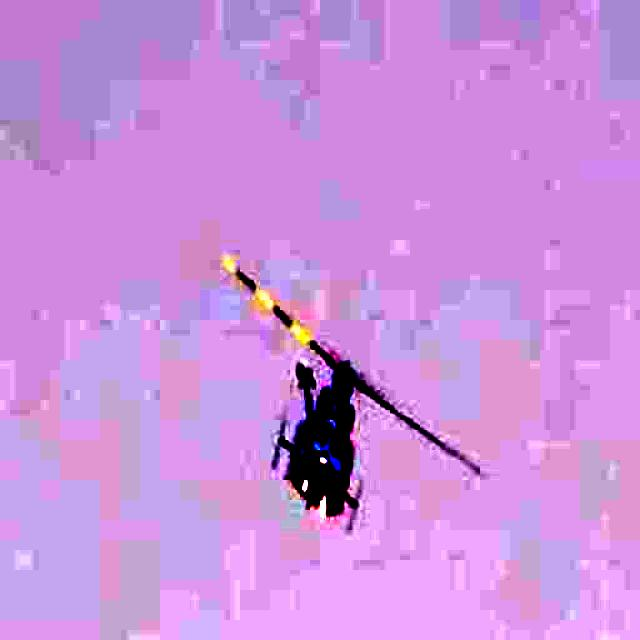drone: (180, 261, 454, 535)
